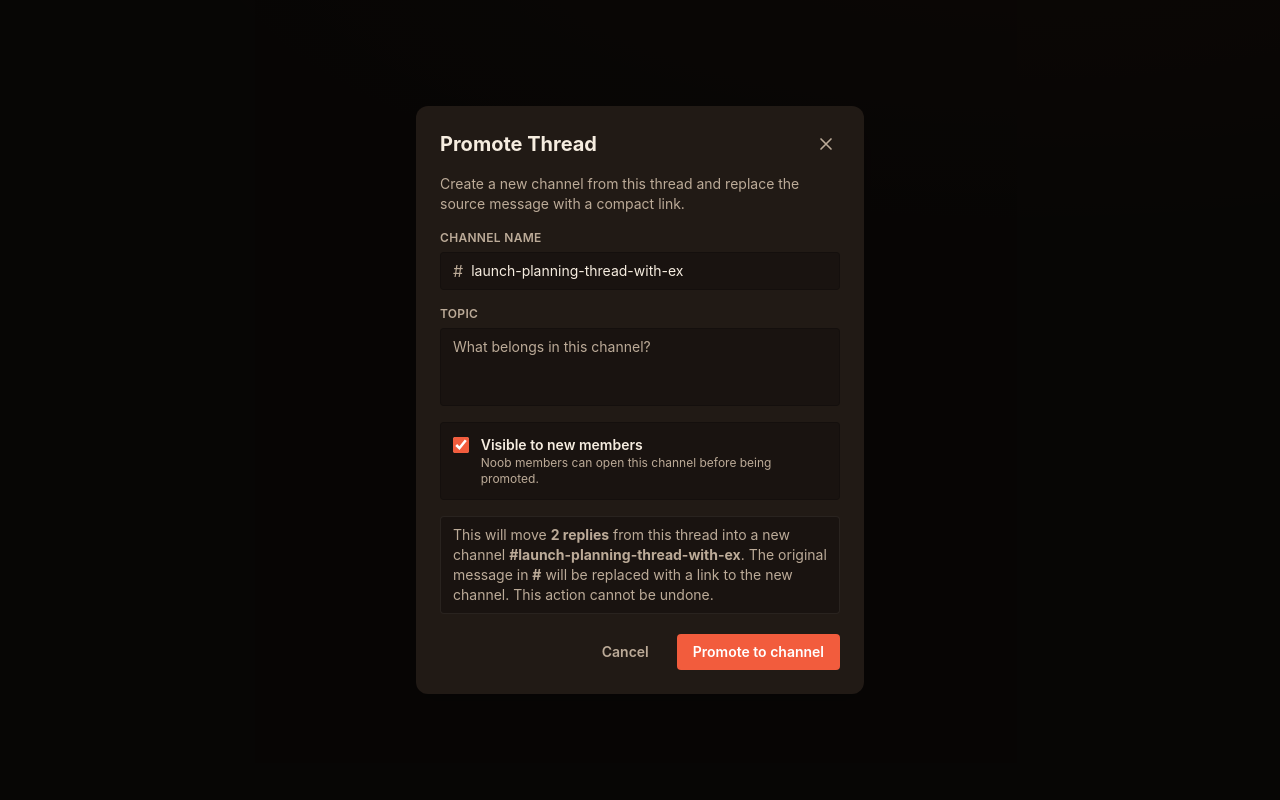
Test: PromoteThreadModal › surfaces server action errors
The width and height of the screenshot is (1280, 800).
Click the button "Promote to channel".
click(758, 652)  # box [677,634,840,670]
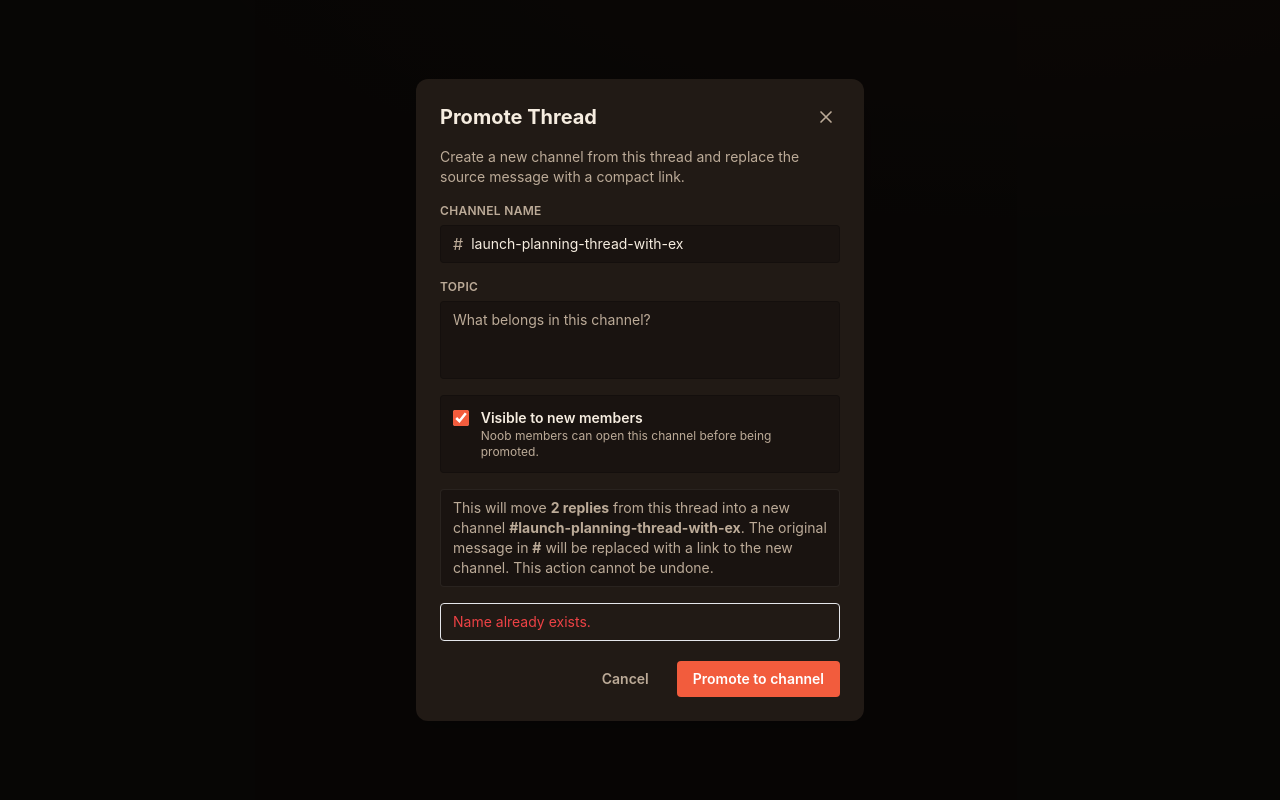
Expected: the text "Name already exists." is shown, [440,603,840,641]
